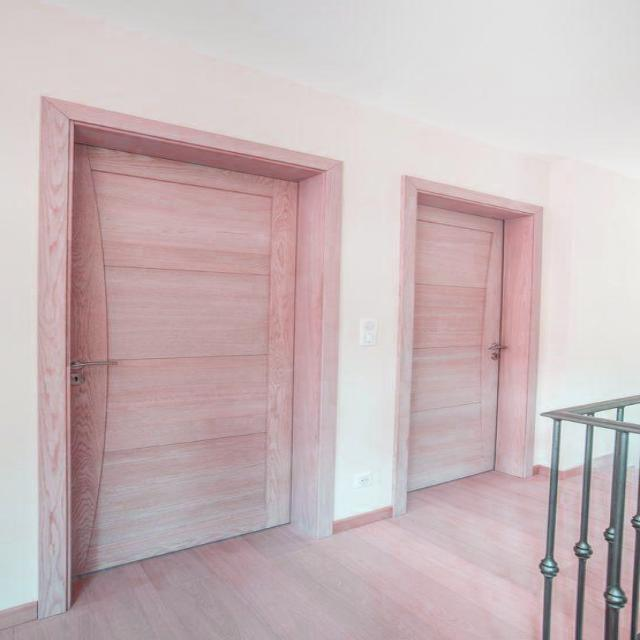door: (68, 139, 299, 579), (394, 174, 534, 506)
